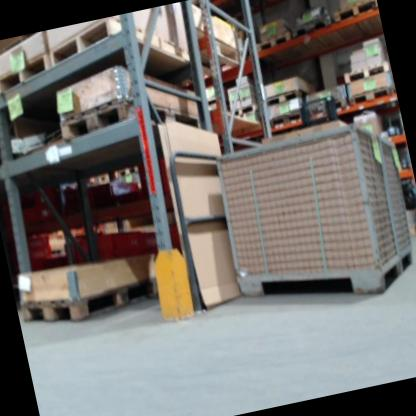pallet: (42, 2, 190, 90), (59, 82, 201, 158), (16, 271, 159, 331), (0, 50, 57, 92), (341, 59, 392, 86), (347, 83, 396, 107), (330, 0, 379, 23), (290, 12, 333, 38), (264, 84, 307, 108), (253, 29, 292, 53), (306, 98, 349, 117), (266, 108, 303, 128), (229, 101, 259, 117), (116, 165, 139, 178)
stillage: (207, 107, 416, 322)
